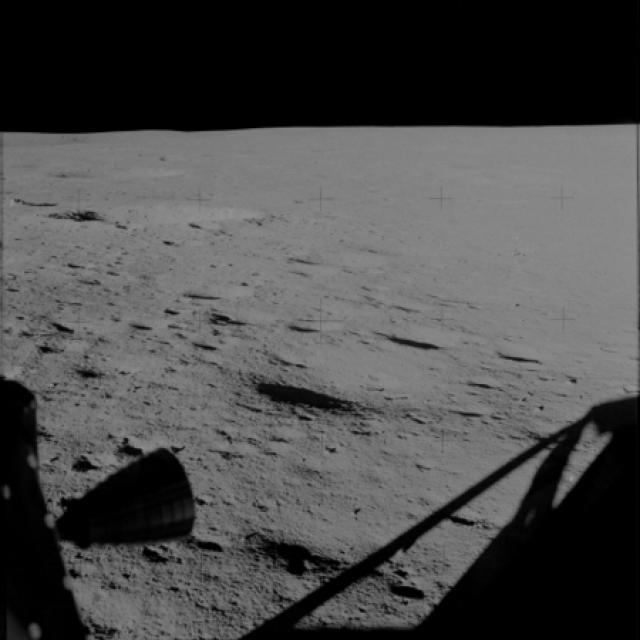crater: (244, 501, 447, 612), (42, 186, 299, 258), (221, 346, 432, 428), (0, 143, 211, 192), (495, 332, 568, 379), (381, 318, 454, 364), (172, 275, 250, 304), (72, 348, 140, 381), (279, 311, 338, 338), (42, 311, 104, 336), (182, 331, 222, 357), (23, 337, 69, 358), (125, 312, 162, 336)
rock: (55, 446, 106, 471), (109, 426, 150, 457)
